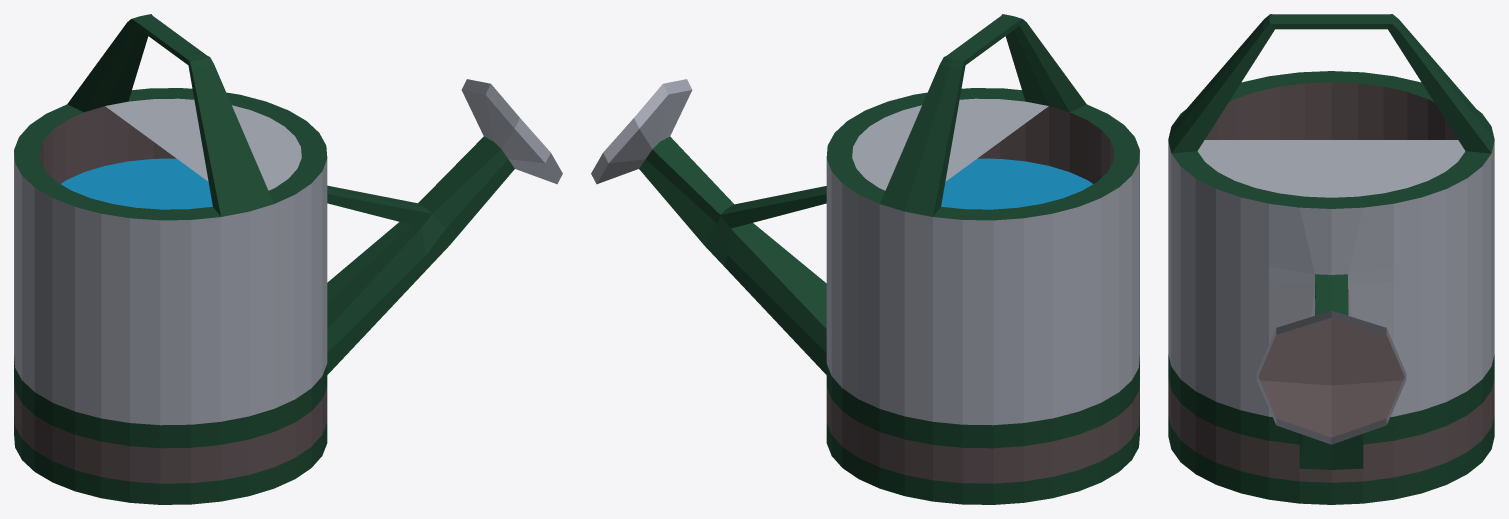
File: watering can.fbx
The picture shows the model from 3 angles, left to right: view 1: azimuth 30°, elevation 25°; view 2: azimuth 150°, elevation 25°; view 3: azimuth 270°, elevation 25°; orthographic projection. The views are drawn at different scales.
Parts seen in each view (by area): view 1: Cylinder; view 2: Cylinder; view 3: Cylinder.
Part boxes in pixels (box(x1,y1,x2,y2)): Cylinder: box(14, 14, 562, 504); Cylinder: box(591, 14, 1139, 504); Cylinder: box(1168, 14, 1494, 504).
Bounding box in the file's own units: 171 × 324 × 241.
